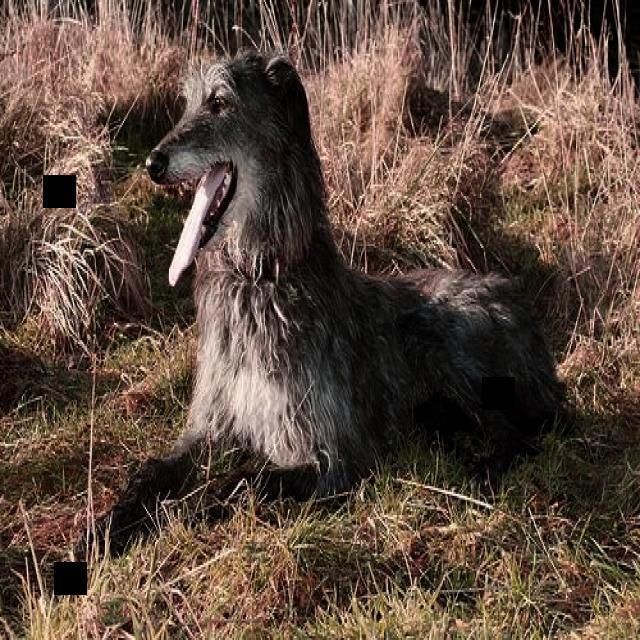adult_dog: (88, 46, 567, 553)
